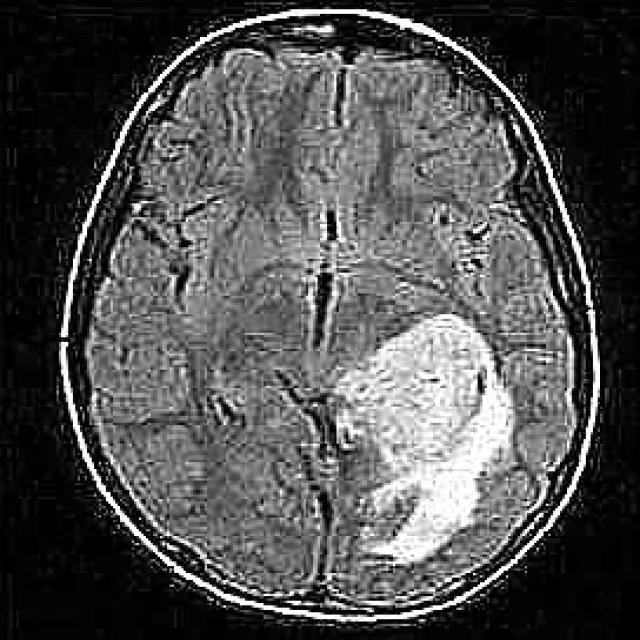brain tumor: (339, 314, 515, 566)
